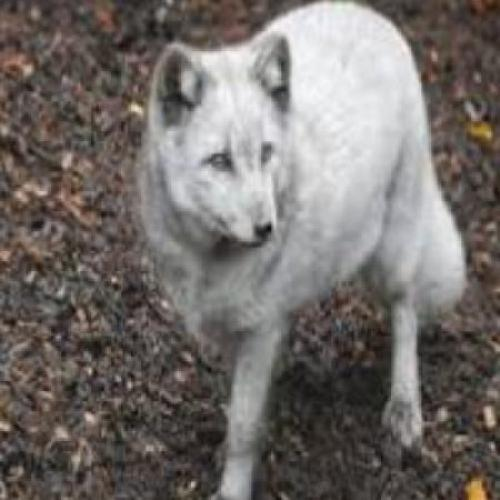arctic_fox-endangered: (136, 5, 469, 500)
